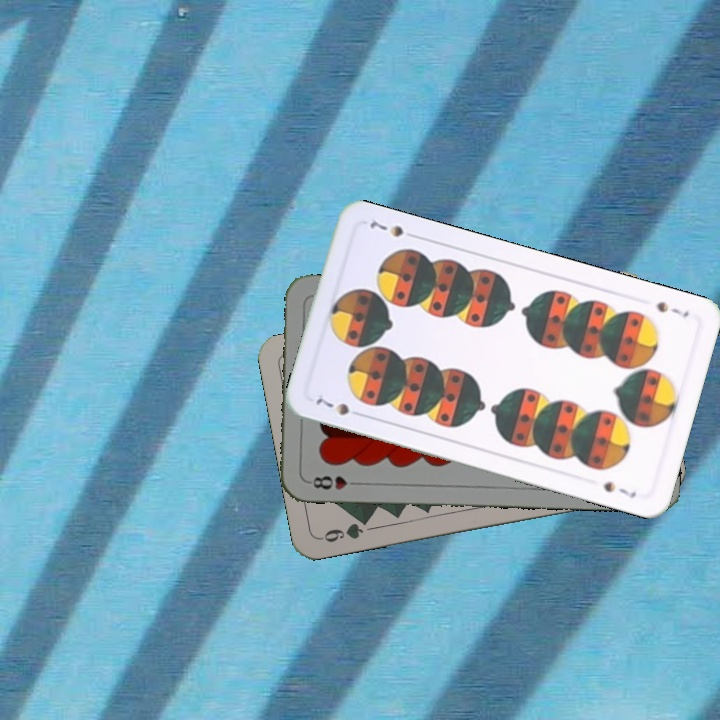G9: (316, 514, 373, 545)
H8: (304, 472, 363, 493)
S7: (311, 394, 367, 420), (652, 297, 692, 320)
